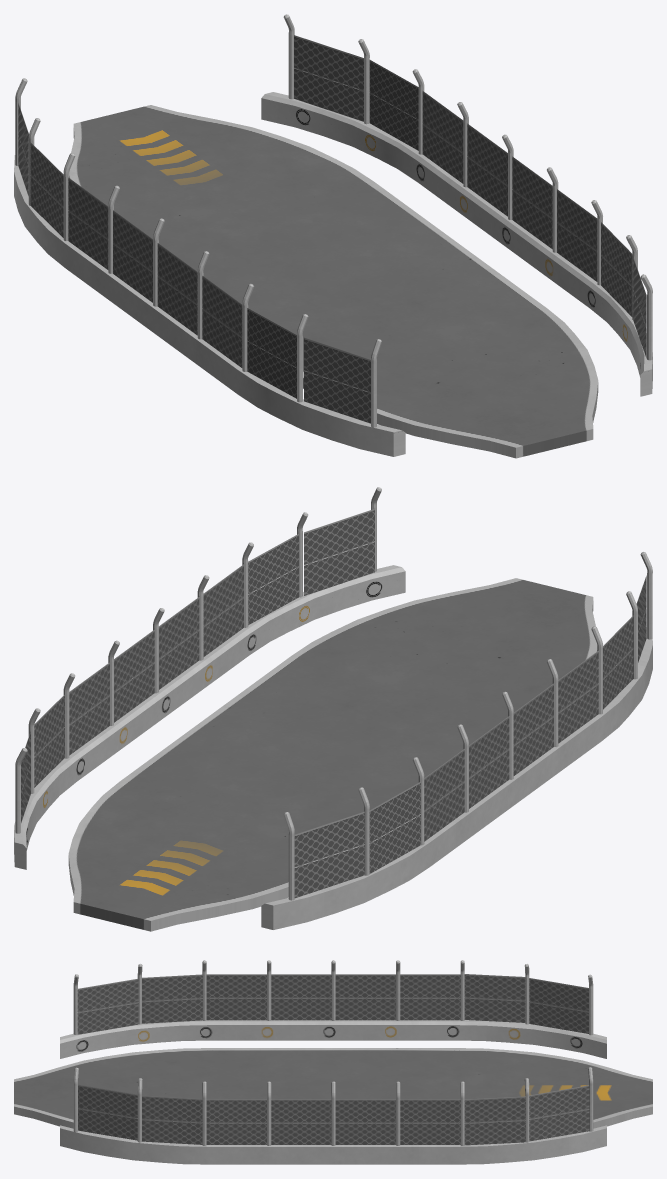
Rendered from FinishPlatform.fbx.
3 renders of one model, top to bottom at view 1: azimuth 30°, elevation 25°; view 2: azimuth 150°, elevation 25°; view 3: azimuth 270°, elevation 25°, orthographic. The views are drawn at different scales.
Visible parts, largest first — view 1: FinishPlatform, FinishFenceLeft, FinishFenceRight, pPlane6 (×2), pPlane5 (×2), pPlane4 (×2), pPlane2 (×2), pPlane3 (×2), pPlane8 (×2), pPlane7 (×2), pPlane1 (×2); view 2: FinishPlatform, FinishFenceLeft, FinishFenceRight, pPlane6 (×2), pPlane4 (×2), pPlane5 (×2), pPlane1 (×2), pPlane2 (×2), pPlane3 (×2), pPlane7, pPlane8; view 3: FinishPlatform, FinishFenceRight, FinishFenceLeft, pPlane6 (×2), pPlane4 (×2), pPlane8 (×2), pPlane5 (×2), pPlane2 (×2), pPlane1 (×2), pPlane3 (×2), pPlane7 (×2), pCylinder23 (+7 smaller).
Part boxes in pixels (<box>): FinishPlatform: <box>69,105,598,458</box>; FinishFenceLeft: <box>261,92,652,396</box>; FinishFenceRight: <box>14,155,405,456</box>; pPlane6 (×2): <box>30,60,418,237</box>; pPlane5 (×2): <box>68,91,463,269</box>; pPlane4 (×2): <box>247,222,632,398</box>; pPlane2 (×2): <box>157,156,552,335</box>; pPlane3 (×2): <box>202,189,597,367</box>; pPlane8 (×2): <box>304,257,646,423</box>; pPlane7 (×2): <box>18,35,363,195</box>; pPlane1 (×2): <box>113,123,507,302</box>; FinishPlatform: <box>68,578,597,931</box>; FinishFenceLeft: <box>14,565,405,869</box>; FinishFenceRight: <box>261,627,652,929</box>; pPlane6 (×2): <box>34,695,420,873</box>; pPlane4 (×2): <box>248,534,633,709</box>; pPlane5 (×2): <box>69,662,464,841</box>; pPlane1 (×2): <box>114,629,509,808</box>; pPlane2 (×2): <box>159,597,553,775</box>; pPlane3 (×2): <box>203,564,598,743</box>; pPlane7: <box>294,811,364,898</box>; pPlane8: <box>304,509,374,595</box>; FinishPlatform: <box>14,1048,652,1128</box>; FinishFenceRight: <box>60,1020,606,1058</box>; FinishFenceLeft: <box>60,1125,606,1164</box>; pPlane6 (×2): <box>464,974,525,1145</box>; pPlane4 (×2): <box>142,974,202,1144</box>; pPlane8 (×2): <box>77,978,138,1140</box>; pPlane5 (×2): <box>400,974,460,1144</box>; pPlane2 (×2): <box>271,974,331,1144</box>; pPlane1 (×2): <box>335,974,395,1144</box>; pPlane3 (×2): <box>206,974,266,1144</box>; pPlane7 (×2): <box>529,978,589,1141</box>; pCylinder23: <box>202,1081,206,1145</box>.
Size of the model in its own units: 7.06 by 2.04 by 14.86.
4 materials, 4 textured.
